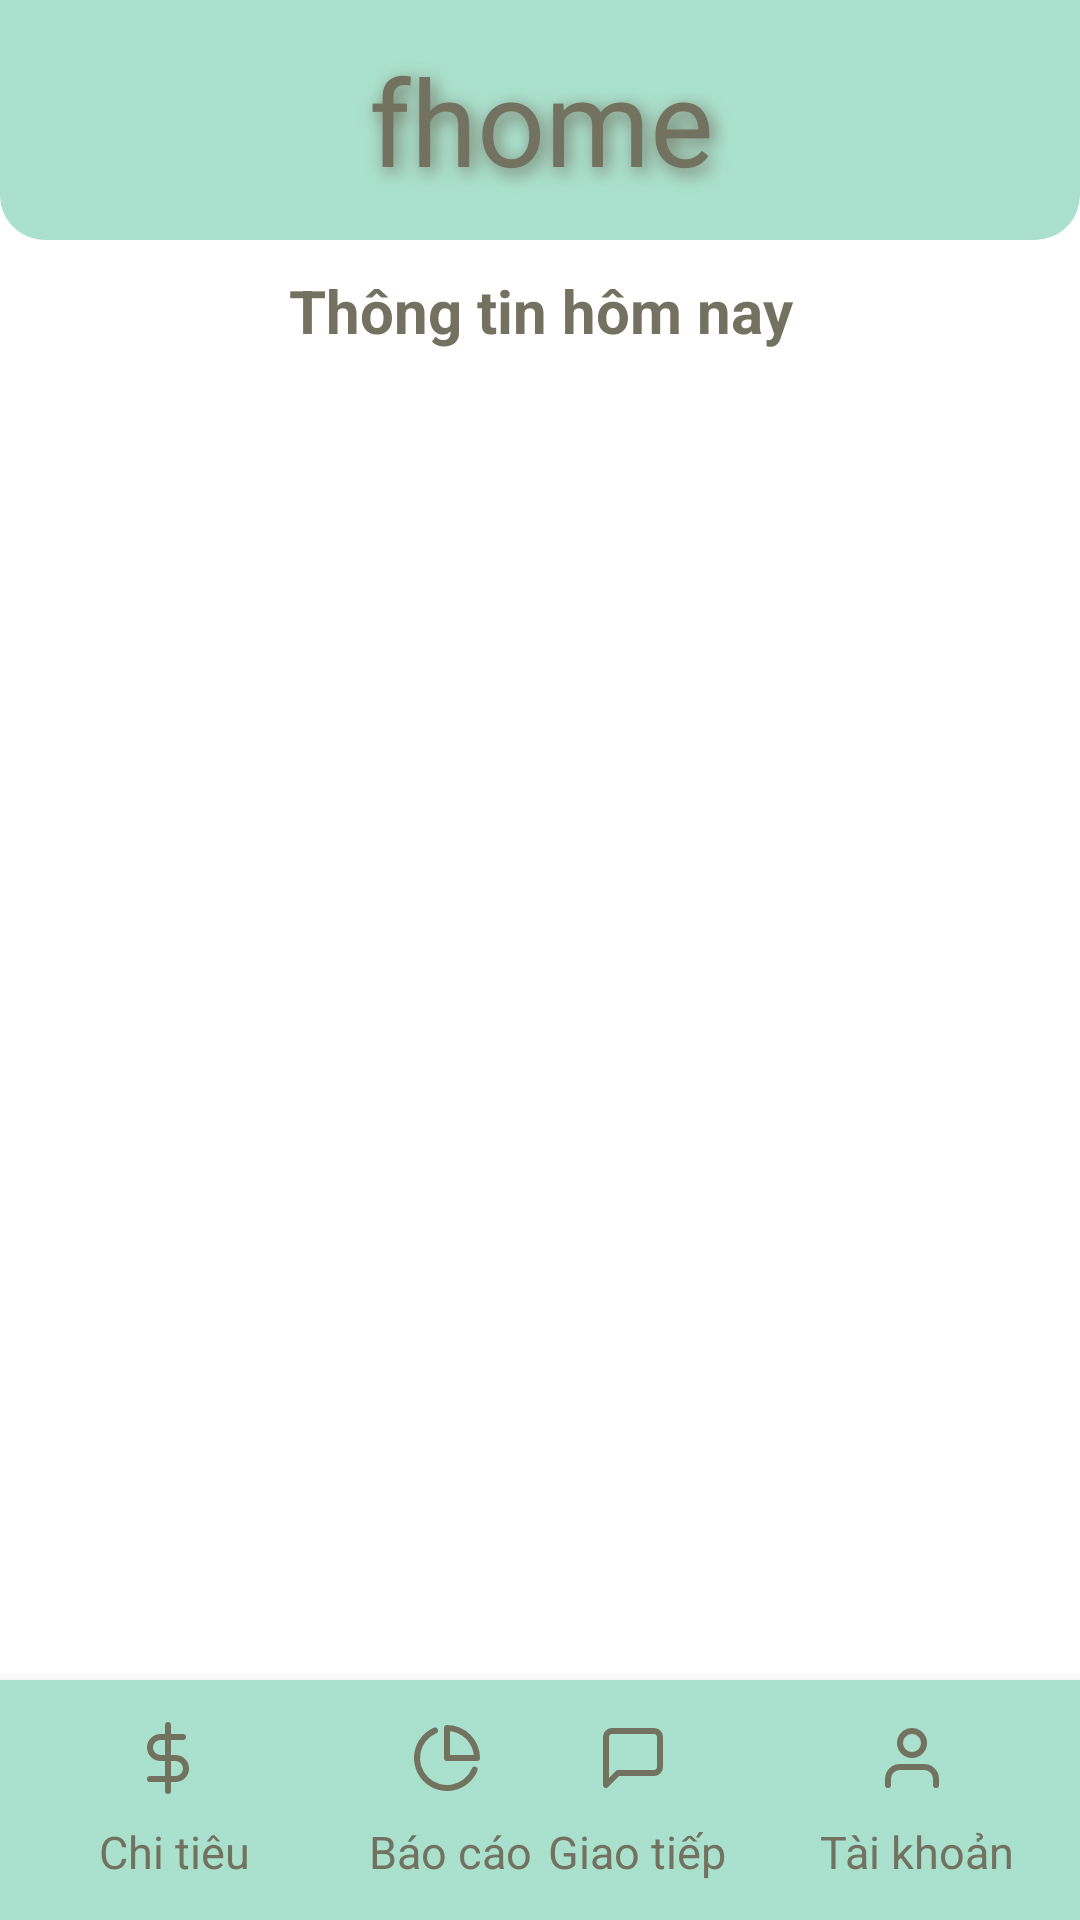

Named icons in this screenshot (1080×1920) and their centers, (x=x, y=y):
chart: (x=447, y=1758)
chat: (x=633, y=1758)
chitieu: (x=168, y=1758)
